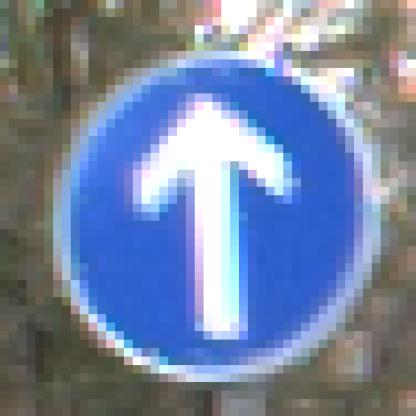AheadOnly: (54, 44, 373, 375)
